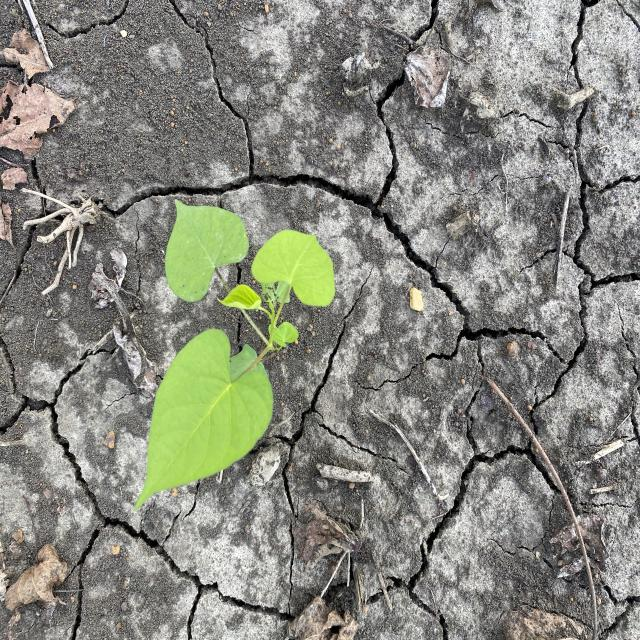MorningGlory: (132, 198, 337, 514)
